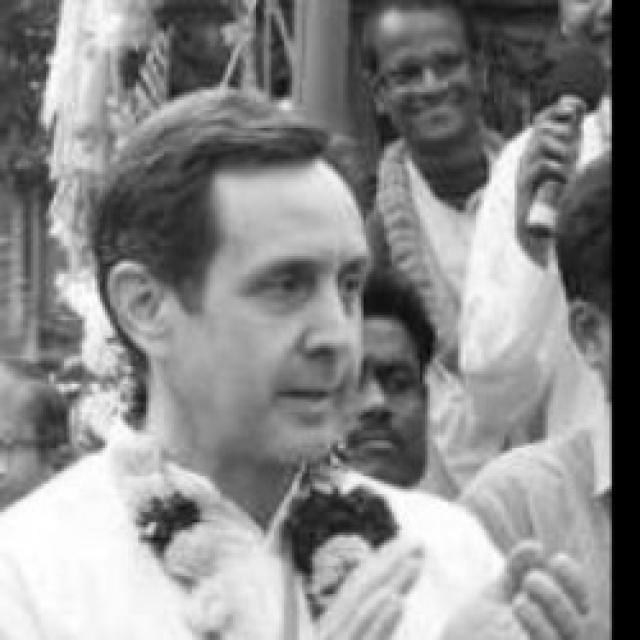fake: (389, 47, 470, 85)
real: (147, 88, 378, 488), (357, 0, 511, 149), (241, 251, 367, 305)
